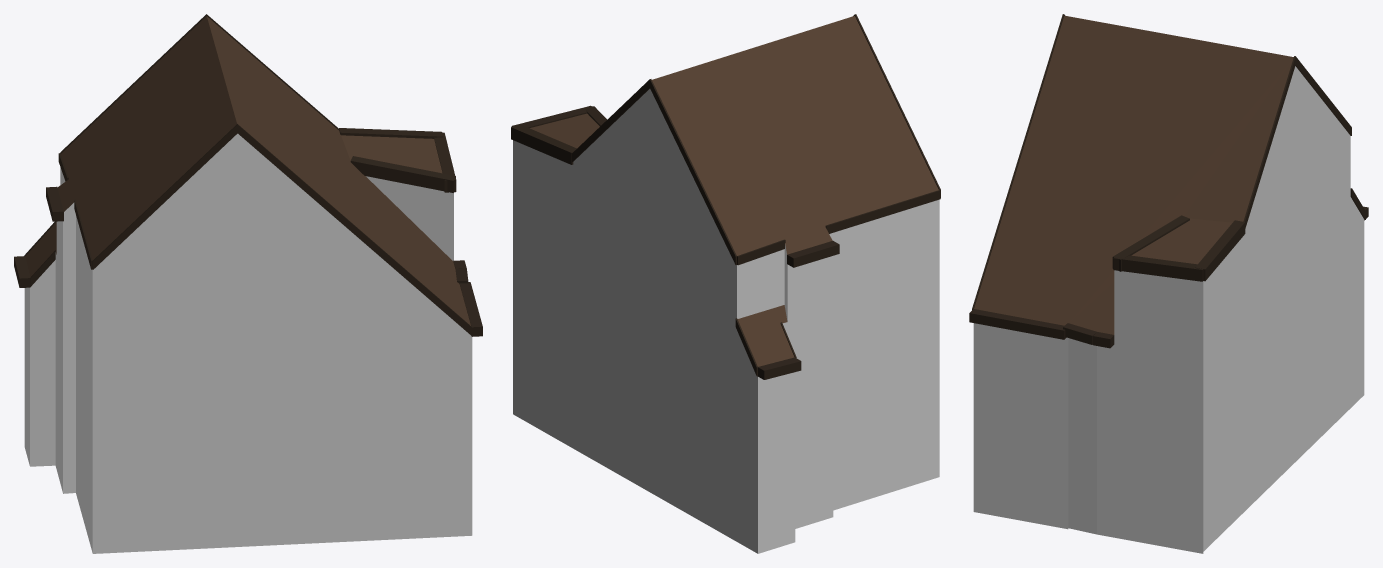
The model's file is pand45.glb.
The picture shows the model from 3 angles, left to right: view 1: azimuth 30°, elevation 25°; view 2: azimuth 150°, elevation 25°; view 3: azimuth 270°, elevation 25°; orthographic projection. The views are drawn at different scales.
Parts seen in each view (by area): view 1: gevel_rij70, dak, rand; view 2: gevel_rij70, dak, rand; view 3: gevel_rij70, dak, rand.
Boxes of the visible parts, box(x1,y1,x2,y2) form: gevel_rij70: box(24, 133, 472, 553); dak: box(25, 16, 470, 325); rand: box(14, 14, 482, 336); gevel_rij70: box(513, 89, 939, 553); dak: box(530, 16, 938, 366); rand: box(511, 14, 940, 379); gevel_rij70: box(973, 66, 1364, 553); dak: box(974, 15, 1293, 334); rand: box(969, 14, 1368, 348).
Size of the model in its own units: 12.1 by 12.43 by 10.97.
